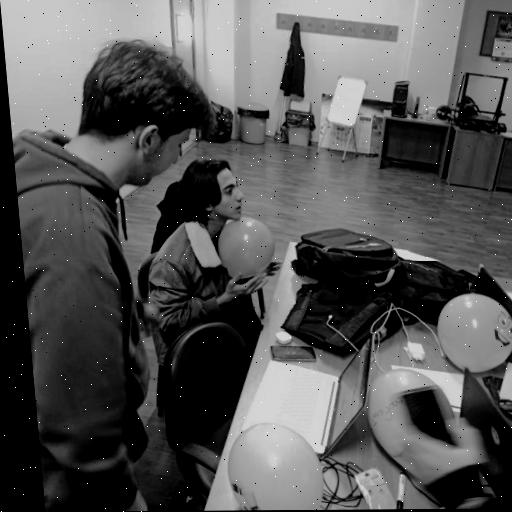balloon: (371, 366, 463, 469), (226, 420, 327, 510), (438, 292, 512, 371), (215, 216, 279, 278)
